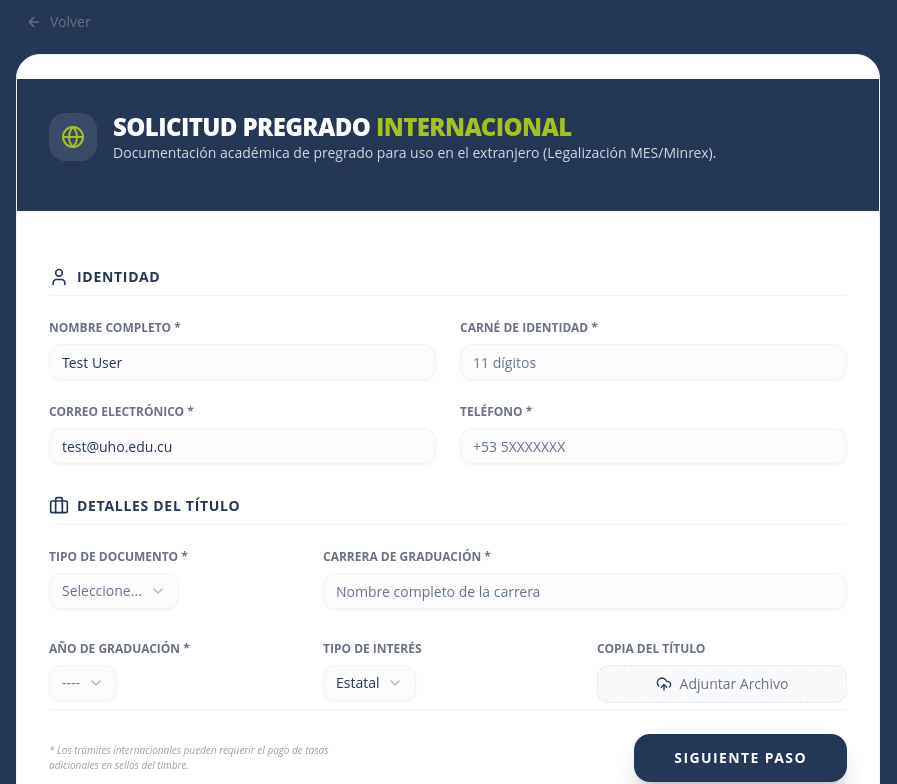
Test: UnderInterProcedure validación común › rechaza carné con menos de 11 dígitos
In the field labelled "Carné de Identidad *": (654, 362) [460,344,847,380], type "12345"
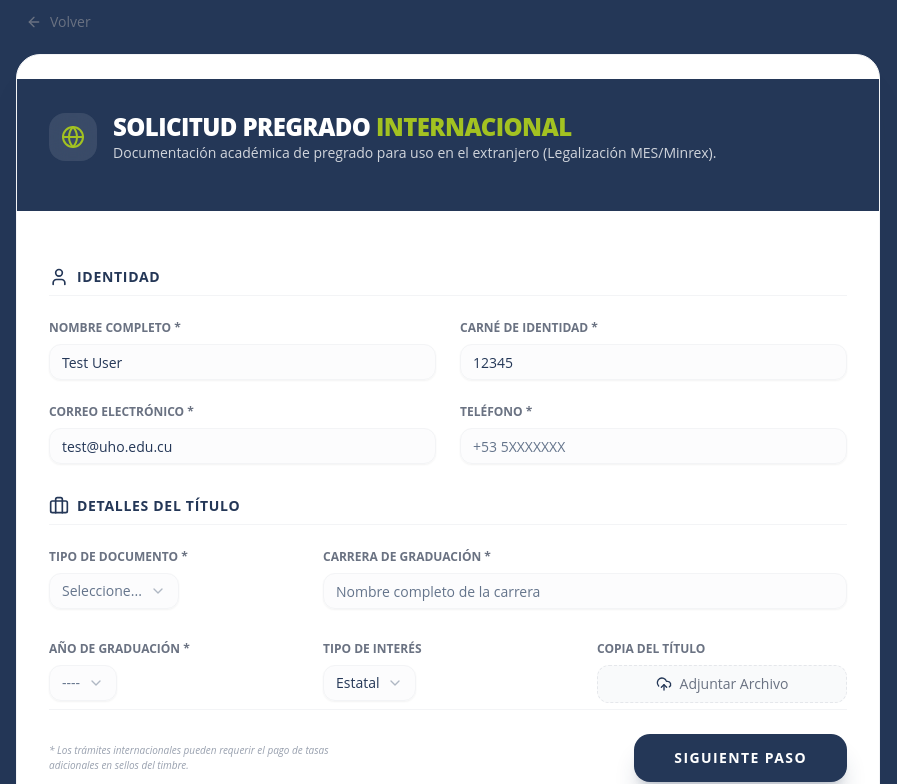
Click the button "Siguiente Paso": (741, 758) [634,734,847,782]
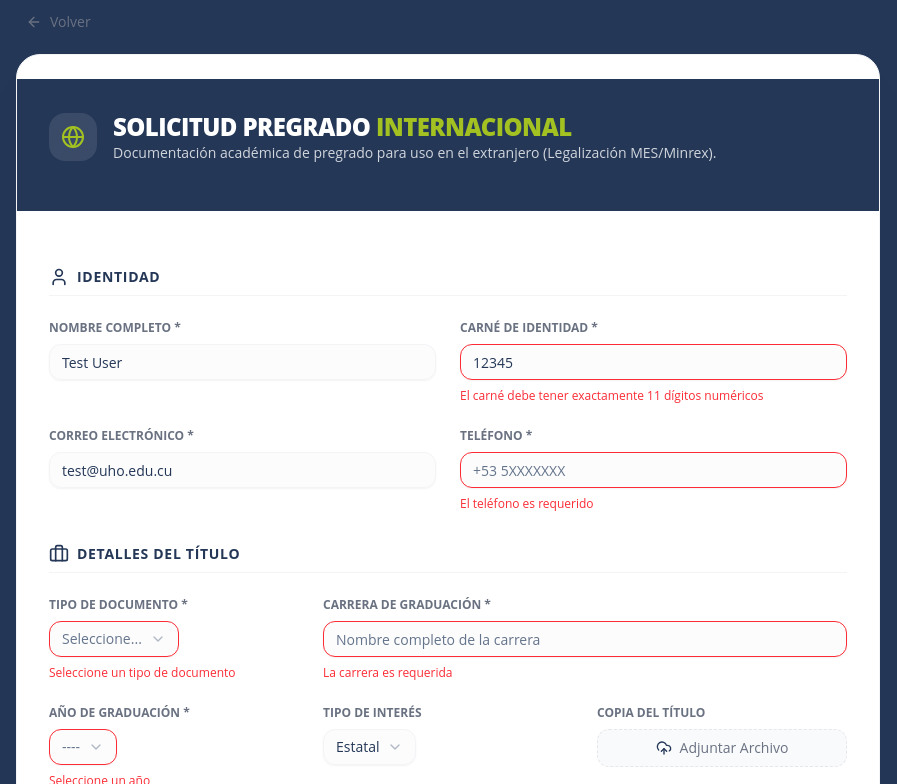
Now the text "El carné debe tener exactamente 11 dígitos numéricos" is shown, box [460,387,764,404]
